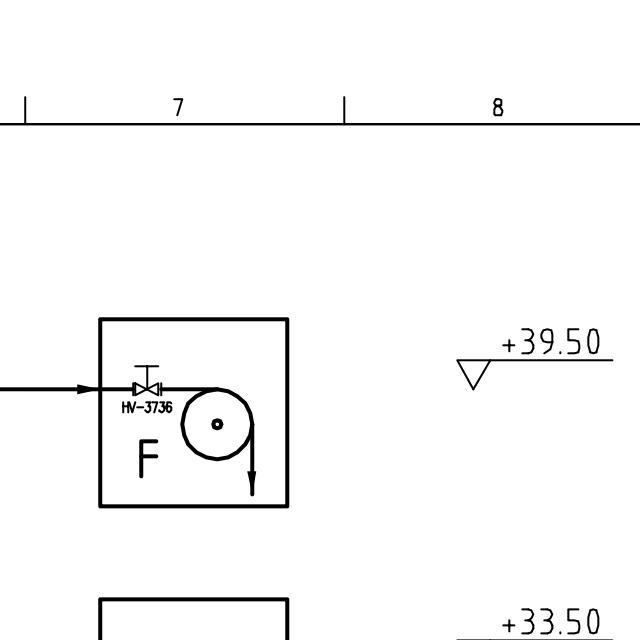HVWT: (131, 359, 162, 398)
